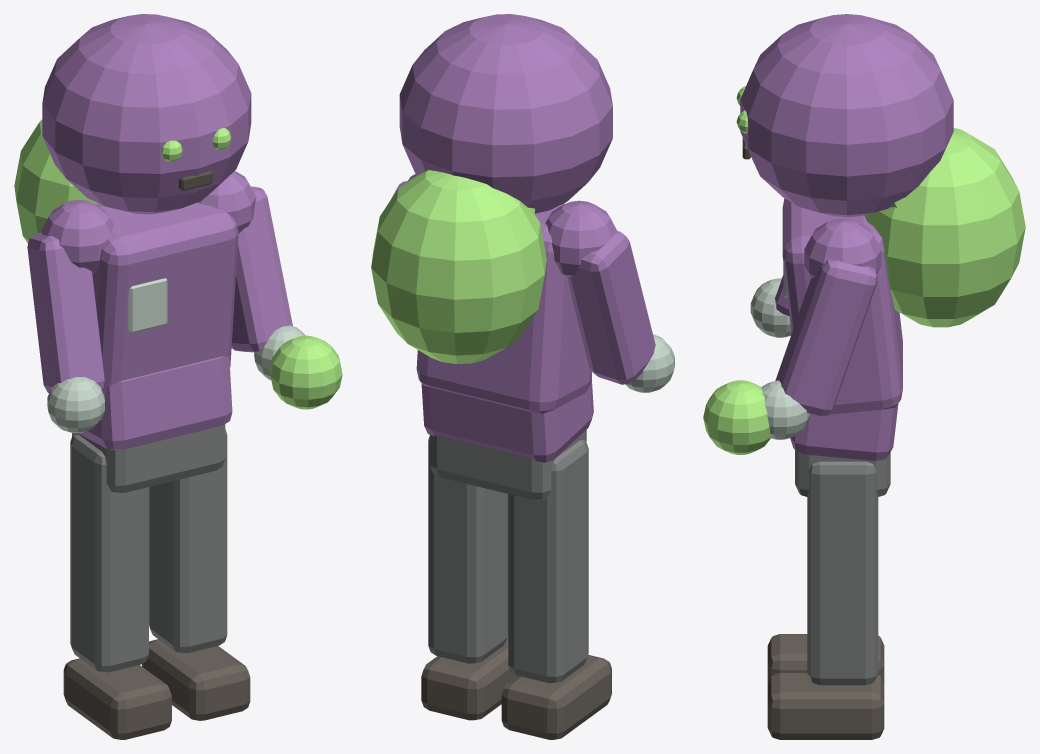
The model's file is ZombieRanged.fbx.
The picture shows the model from 3 angles, left to right: view 1: azimuth 30°, elevation 25°; view 2: azimuth 150°, elevation 25°; view 3: azimuth 270°, elevation 25°; orthographic projection. The views are drawn at different scales.
Visible parts, largest first — view 1: Hood, Torso, Leg_L, Leg_R, RobeSkirt, Arm_L, Boot_L, Arm_R, Boot_R, Hips, AcidBall, AcidSac (+5 smaller); view 2: Hood, AcidSac, Leg_L, Leg_R, Torso, Arm_L, RobeSkirt, Boot_L, Hips, Boot_R, Shoulder_L, Hand_L; view 3: Hood, AcidSac, Leg_R, Arm_R, Torso, Boot_R, RobeSkirt, AcidBall, Shoulder_R, Boot_L, Hand_R, Hand_L (+1 smaller).
Part boxes in pixels (x1,y1,x2,y2): Hood: [42, 14, 251, 214]; Torso: [92, 202, 238, 397]; Leg_L: [70, 434, 148, 672]; Leg_R: [149, 429, 227, 653]; RobeSkirt: [78, 354, 232, 450]; Arm_L: [27, 233, 104, 392]; Boot_L: [63, 658, 171, 739]; Arm_R: [231, 186, 292, 352]; Boot_R: [142, 639, 250, 720]; Hips: [72, 424, 225, 493]; AcidBall: [269, 335, 342, 409]; AcidSac: [14, 119, 99, 243]; Hood: [399, 14, 612, 213]; AcidSac: [371, 170, 546, 364]; Leg_L: [508, 440, 588, 683]; Leg_R: [428, 435, 508, 663]; Torso: [416, 203, 592, 413]; Arm_L: [567, 230, 655, 384]; RobeSkirt: [421, 379, 593, 462]; Boot_L: [501, 654, 611, 739]; Hips: [430, 429, 586, 500]; Boot_R: [421, 635, 516, 720]; Shoulder_L: [545, 200, 616, 277]; Hand_L: [625, 334, 674, 392]; Hood: [740, 14, 953, 217]; AcidSac: [864, 128, 1025, 327]; Leg_R: [807, 461, 878, 685]; Arm_R: [775, 259, 877, 415]; Torso: [782, 198, 902, 414]; Boot_R: [767, 672, 884, 739]; RobeSkirt: [790, 404, 898, 460]; AcidBall: [703, 380, 771, 454]; Shoulder_R: [804, 218, 881, 278]; Boot_L: [767, 634, 884, 683]; Hand_R: [761, 380, 809, 439]; Hand_L: [750, 278, 791, 337].
Bounding box in the file's own units: 0.7469 × 1.82 × 0.7743.
